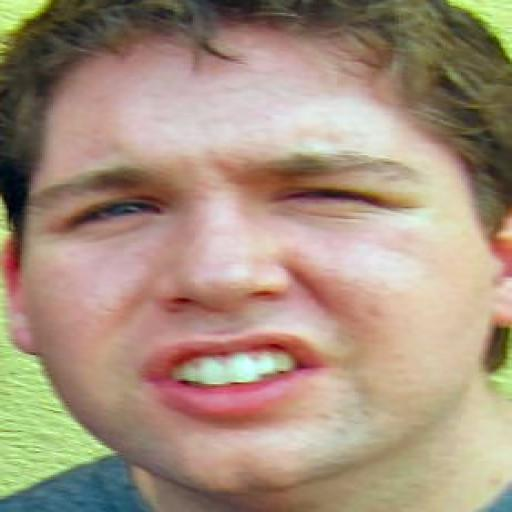Autism: (24, 8, 512, 512)
